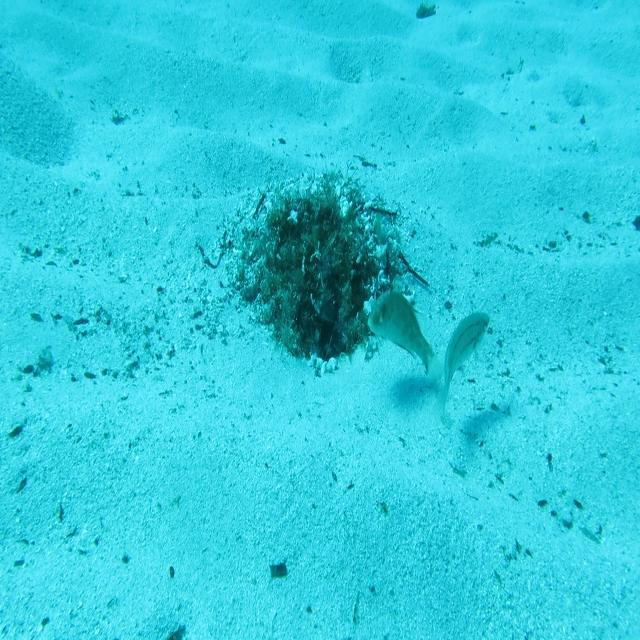MAF: (366, 272, 444, 390)
core_nest: (292, 207, 337, 255)
female: (432, 310, 490, 437)
nest: (218, 134, 440, 388)
vegetation: (267, 557, 290, 584), (414, 4, 439, 21)
